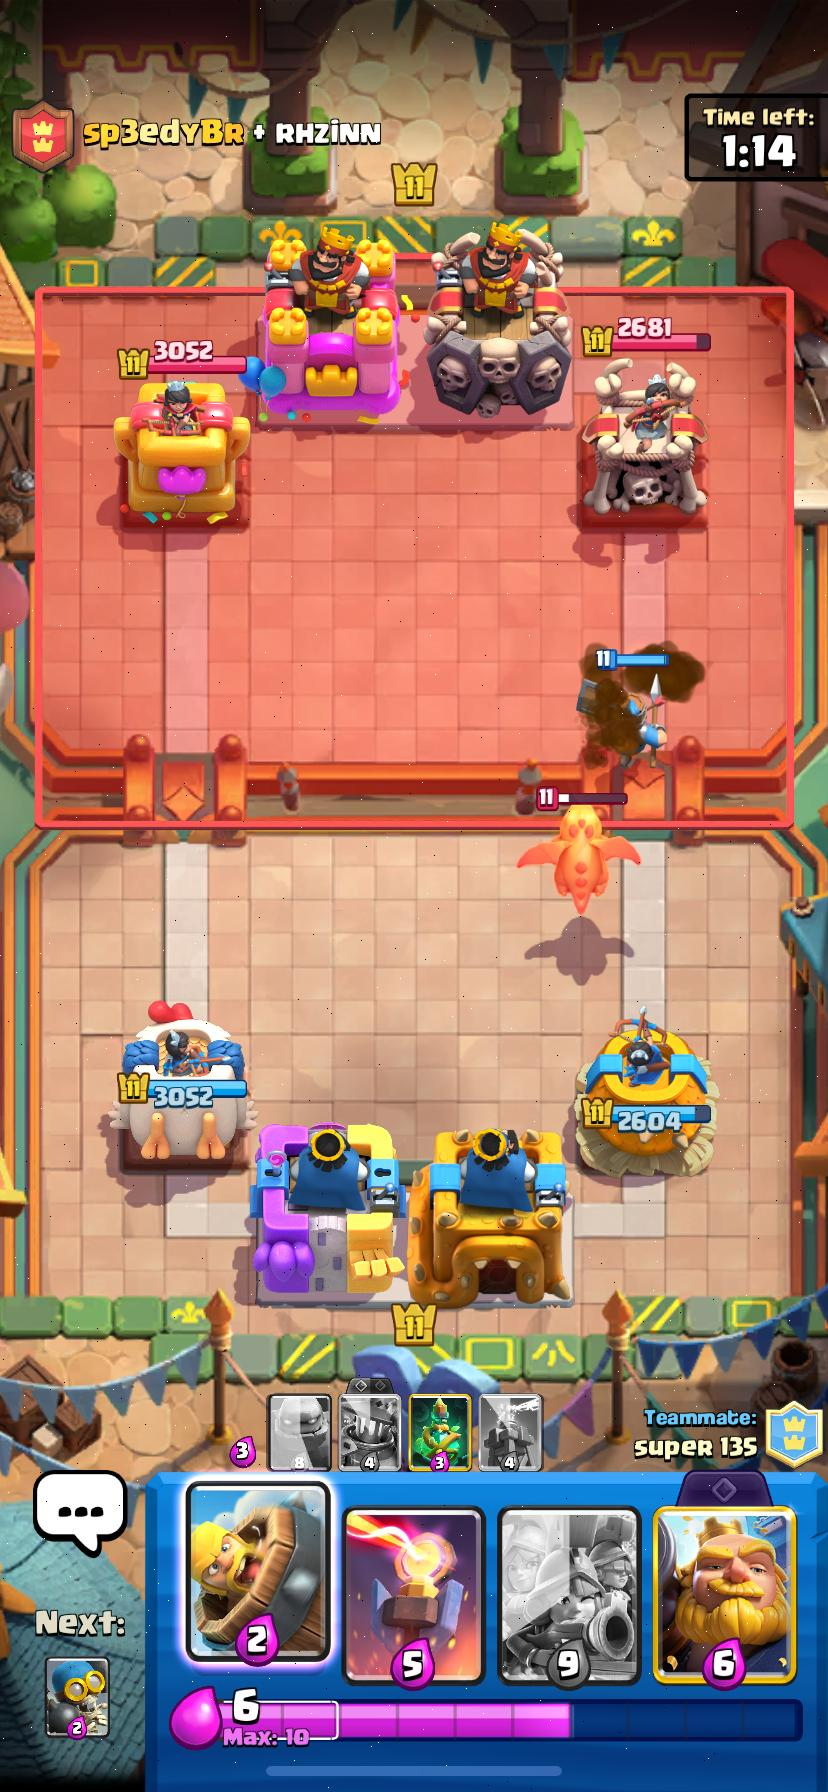EBabyDrag: (518, 805, 639, 913)
EKingTower: (425, 224, 570, 418), (258, 226, 399, 421)
EnemyPrincessTower: (581, 359, 707, 514), (114, 382, 249, 523)
ORoyalR: (618, 693, 664, 770)
OwnKingTower: (407, 1129, 571, 1306), (253, 1123, 401, 1301)
OwnPrincessTower: (578, 1013, 716, 1173), (117, 1018, 253, 1159)
